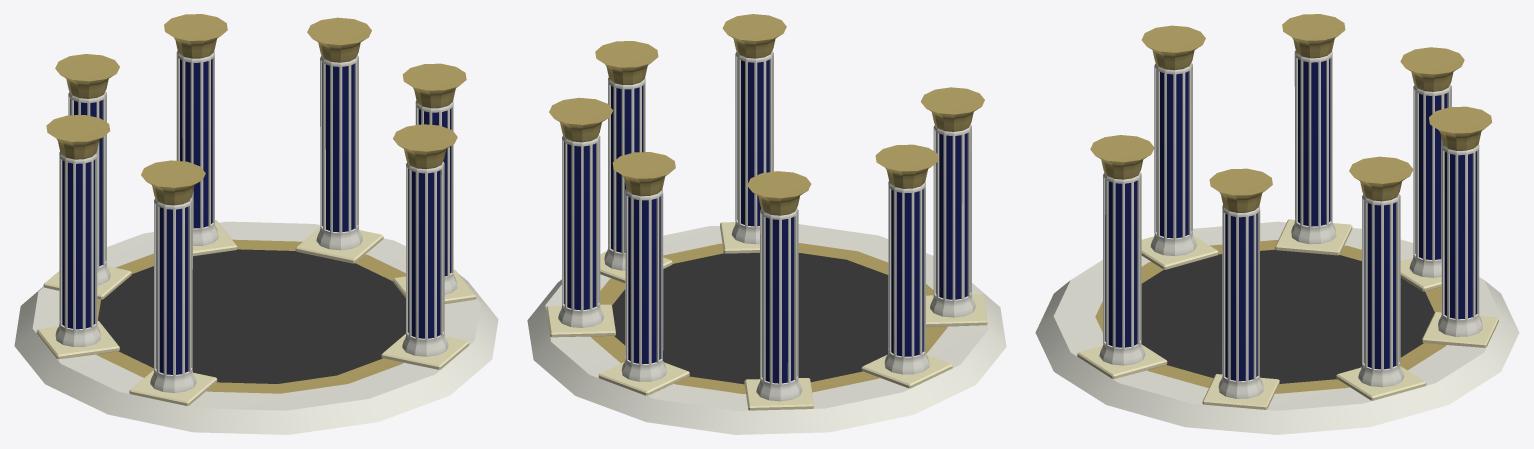
File: DenmonGazebo.fbx
3 renders of one model, left to right at view 1: azimuth 30°, elevation 25°; view 2: azimuth 150°, elevation 25°; view 3: azimuth 270°, elevation 25°, orthographic.
Parts seen in each view (by area): view 1: pCylinder54; view 2: pCylinder54; view 3: pCylinder54.
Boxes of the visible parts, x1,y1,x2,y2 form: pCylinder54: (14,14,498,434); pCylinder54: (527,14,1006,434); pCylinder54: (1035,14,1519,434).
Bounding box in the file's own units: 133 × 69.02 × 133.
